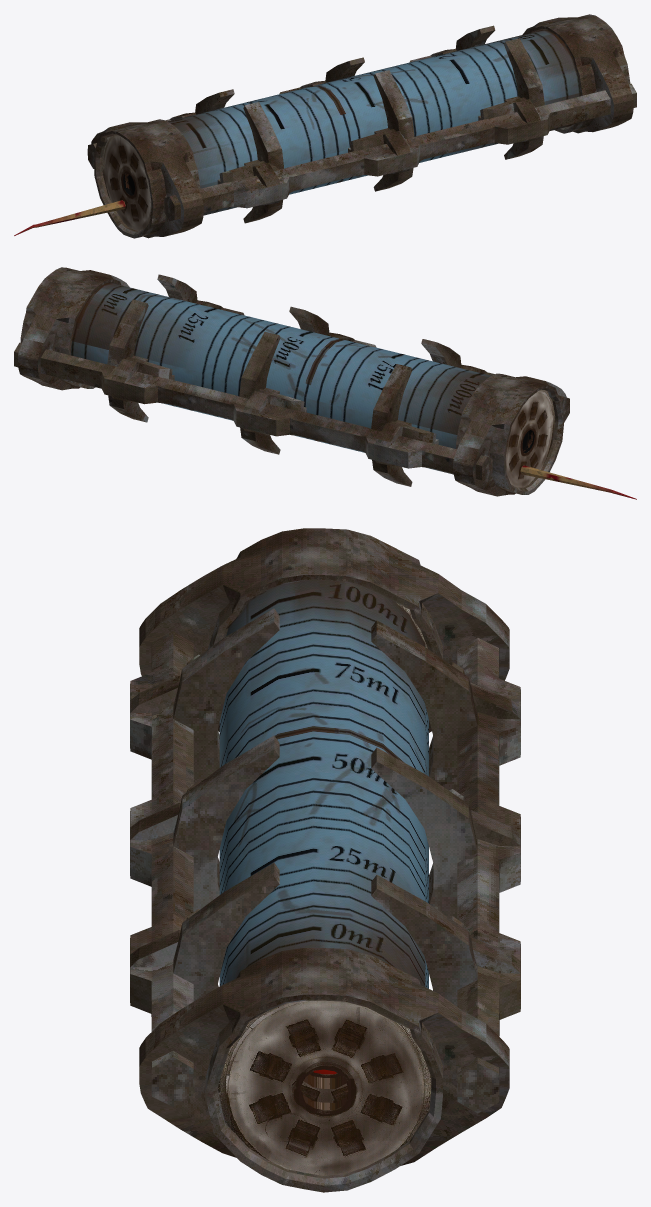
Rendered from adrenalline without pointers1.glb.
3 views of the same model, one above another, from view 1: azimuth 30°, elevation 25°; view 2: azimuth 150°, elevation 25°; view 3: azimuth 270°, elevation 25° (orthographic). The views are drawn at different scales.
Parts seen in each view (by area): view 1: adrenaline main parent; view 2: adrenaline main parent; view 3: adrenaline main parent.
Boxes of the visible parts, x1,y1,x2,y2 form: adrenaline main parent: (14,14,636,238); adrenaline main parent: (14,267,636,499); adrenaline main parent: (130,528,520,1192).
Size of the model in its own units: 3.65 by 0.7421 by 1.06.
5 materials, 4 textured.
